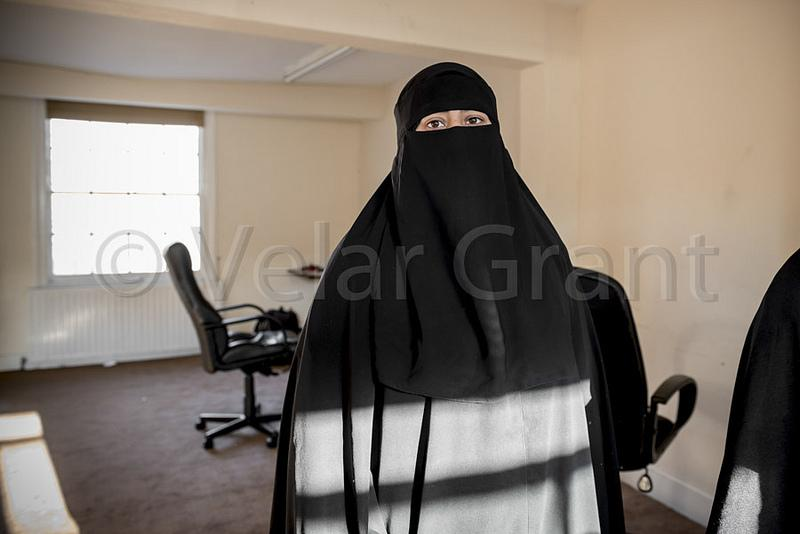OK: (410, 104, 500, 184)
